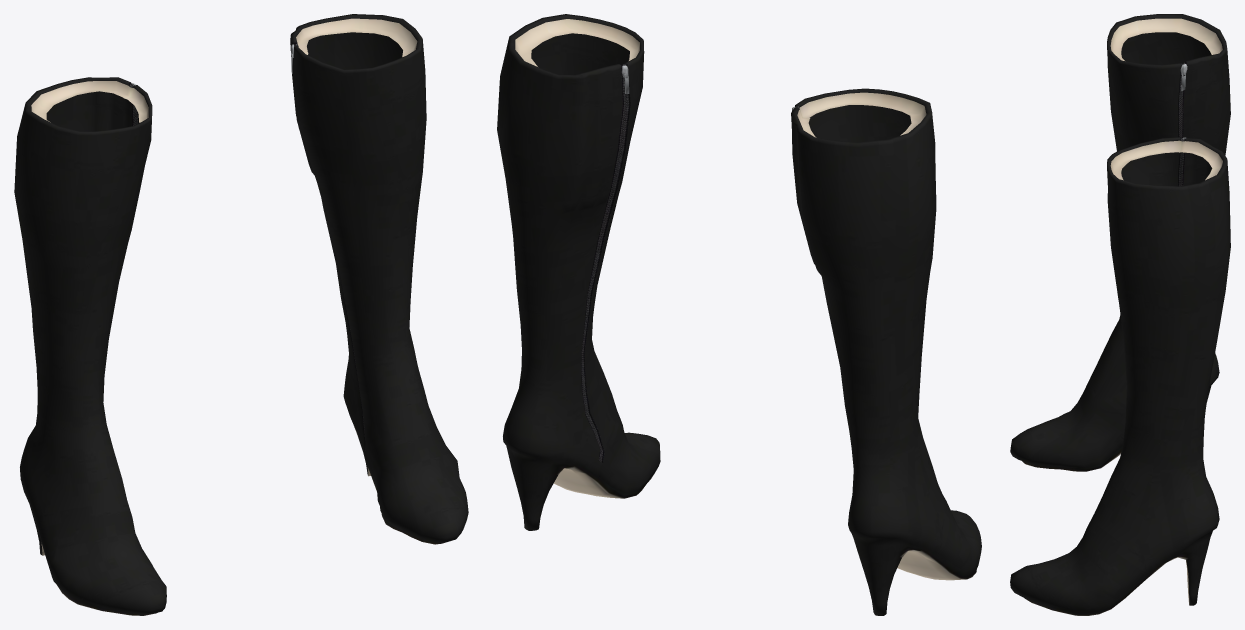
The model's file is punkduck-female-knee-boots.glb.
3 renders of one model, left to right at view 1: azimuth 30°, elevation 25°; view 2: azimuth 150°, elevation 25°; view 3: azimuth 270°, elevation 25°, orthographic. The views are drawn at different scales.
Parts seen in each view (by area): view 1: Human.punkduck_female_knee_boots; view 2: Human.punkduck_female_knee_boots; view 3: Human.punkduck_female_knee_boots.
Part boxes in pixels (x1,y1,x2,y2): Human.punkduck_female_knee_boots: (14,14,468,615); Human.punkduck_female_knee_boots: (497,14,981,615); Human.punkduck_female_knee_boots: (1010,14,1230,615).
Bounding box in the file's own units: 0.4417 × 0.4738 × 0.2208.
Materials: 1 (1 with a texture image).
